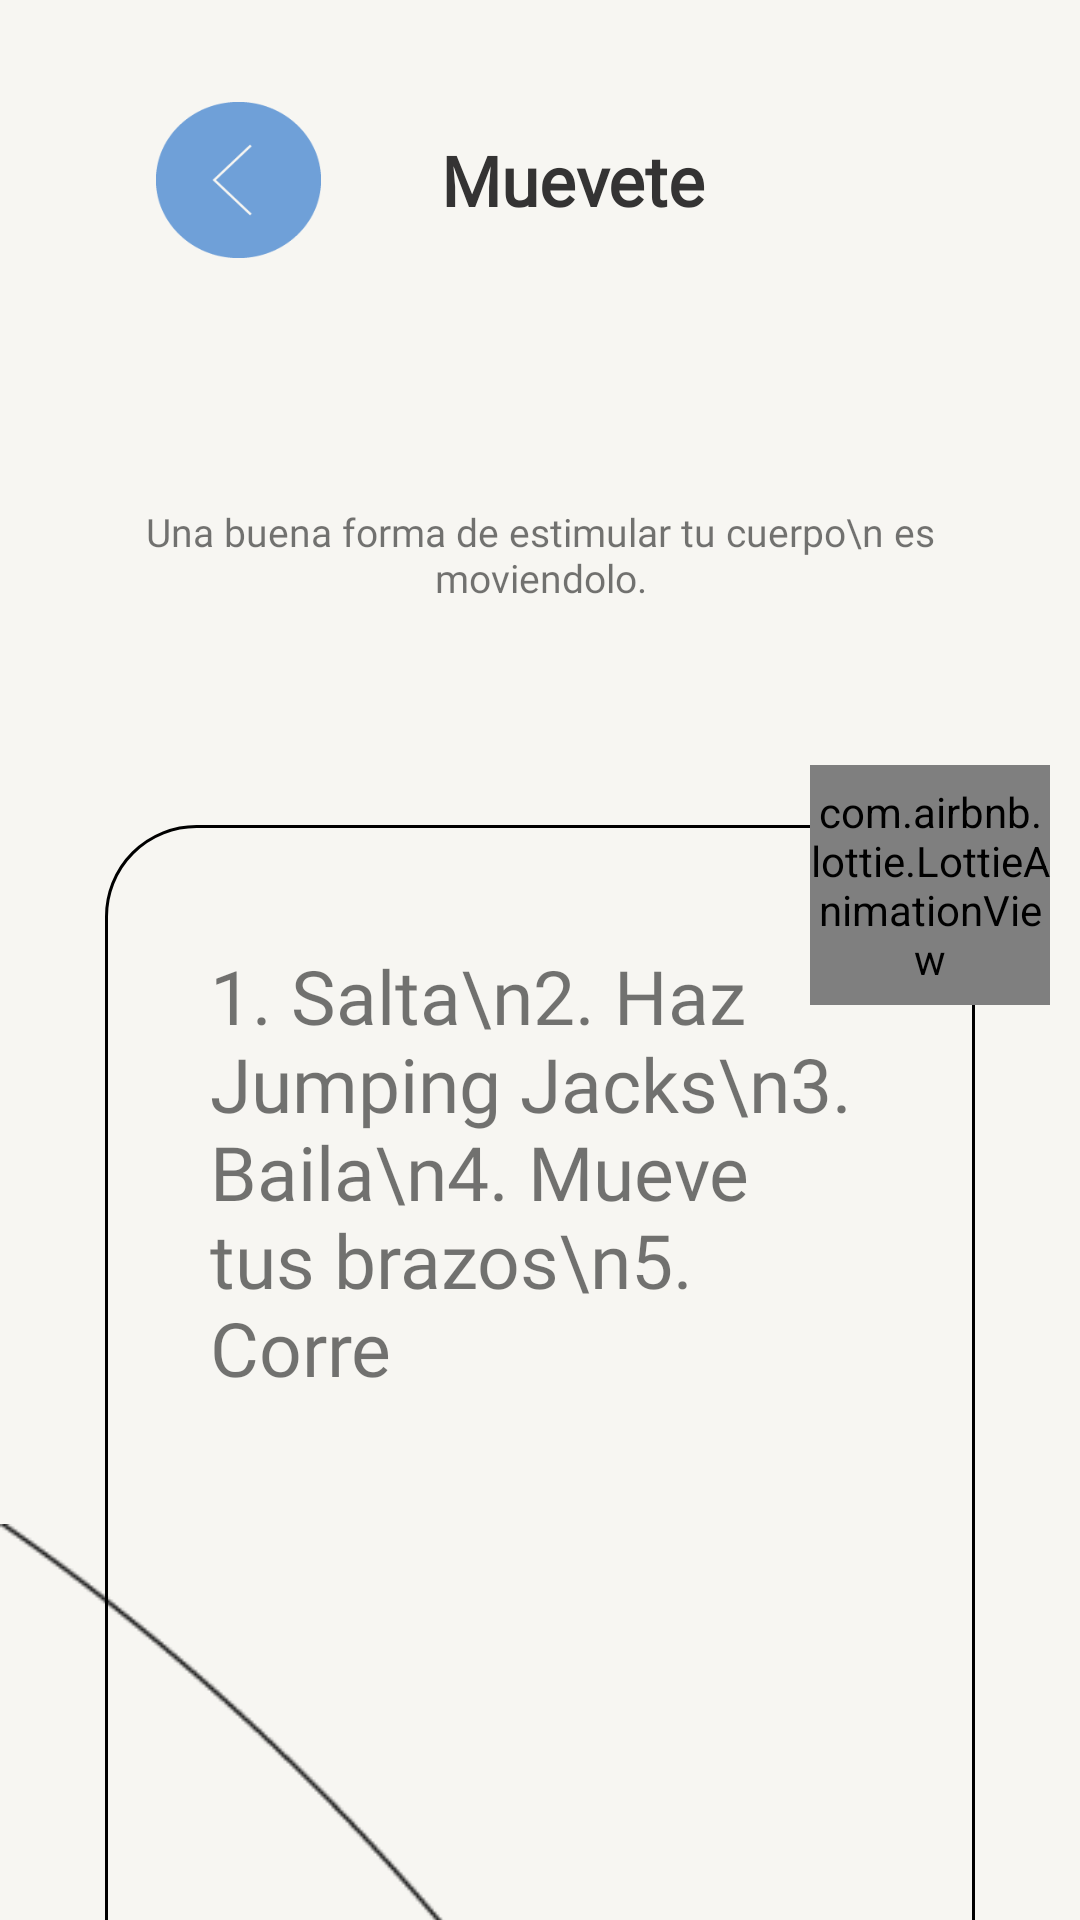

Named icons in this screenshot (1080px×1920px) and their bounding boxes, (x1, y1, x2, y2):
regresar xxxdpi: (156, 102, 321, 258)
